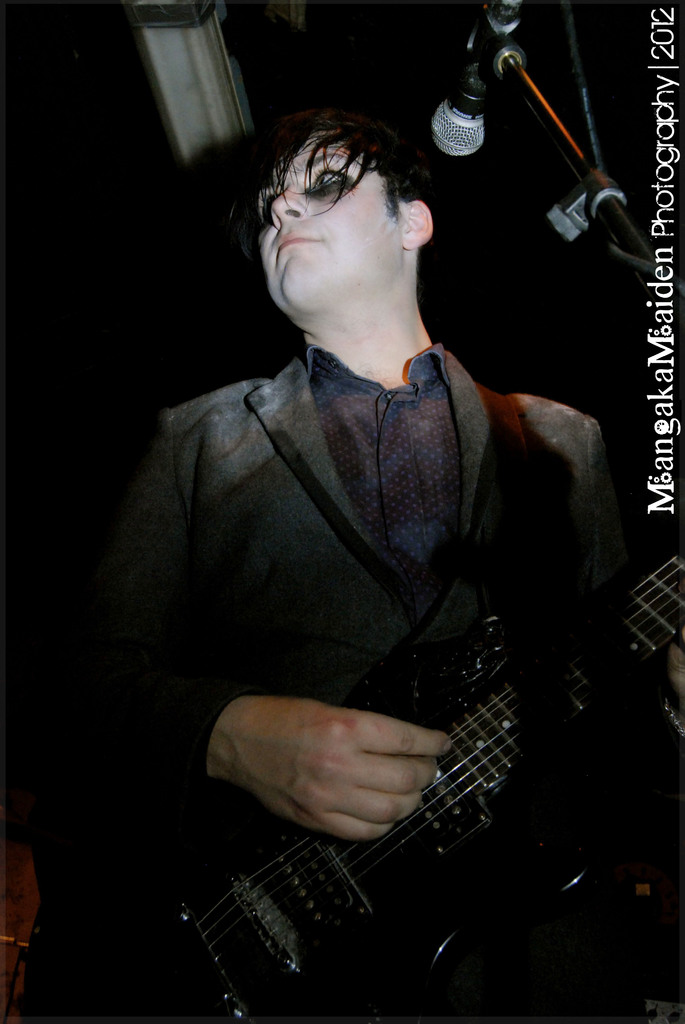Human_hand: (205, 691, 505, 861)
